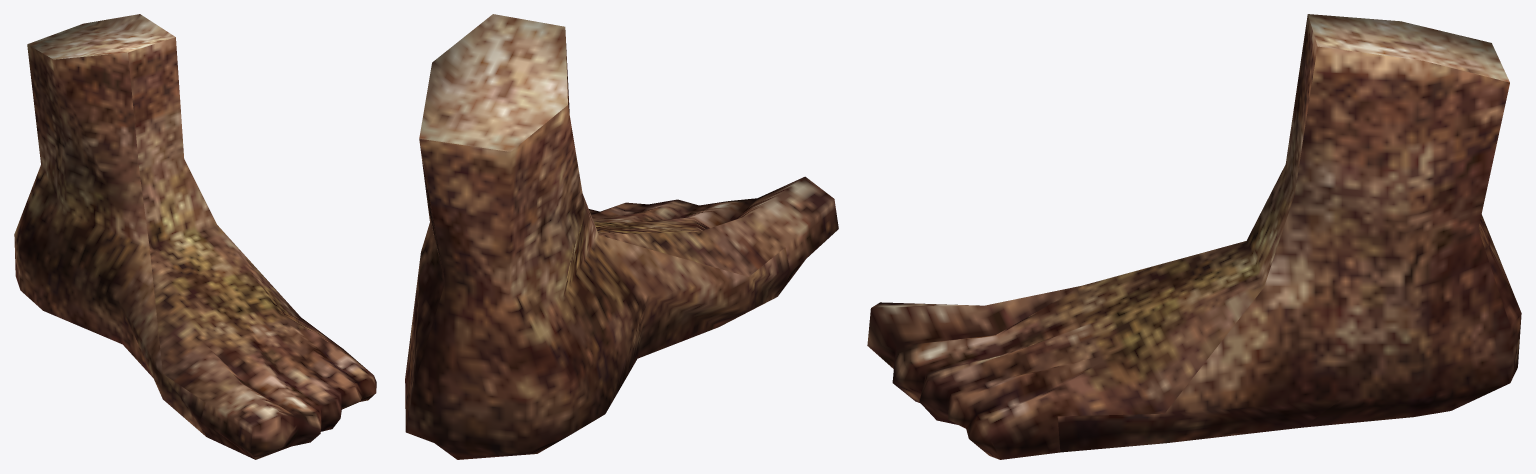
The model's file is general_obj_stoneimage02.glb.
The picture shows the model from 3 angles, left to right: view 1: azimuth 30°, elevation 25°; view 2: azimuth 150°, elevation 25°; view 3: azimuth 270°, elevation 25°; orthographic projection. The views are drawn at different scales.
Parts seen in each view (by area): view 1: Sphere01; view 2: Sphere01; view 3: Sphere01.
Boxes of the visible parts, bbox=[...] form: Sphere01: bbox=[14, 14, 376, 459]; Sphere01: bbox=[405, 14, 838, 459]; Sphere01: bbox=[867, 14, 1521, 459].
Bounding box in the file's own units: 1.75 × 2.62 × 4.17.
Materials: 1 (1 with a texture image).
